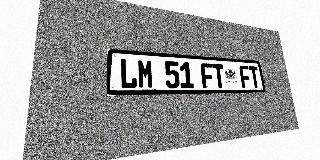1: (179, 62, 194, 88)
5: (165, 61, 180, 88)
F: (200, 63, 214, 88), (239, 65, 252, 88)
L: (120, 58, 137, 89)
M: (137, 59, 154, 89)
T: (212, 64, 226, 88), (248, 66, 261, 88)
